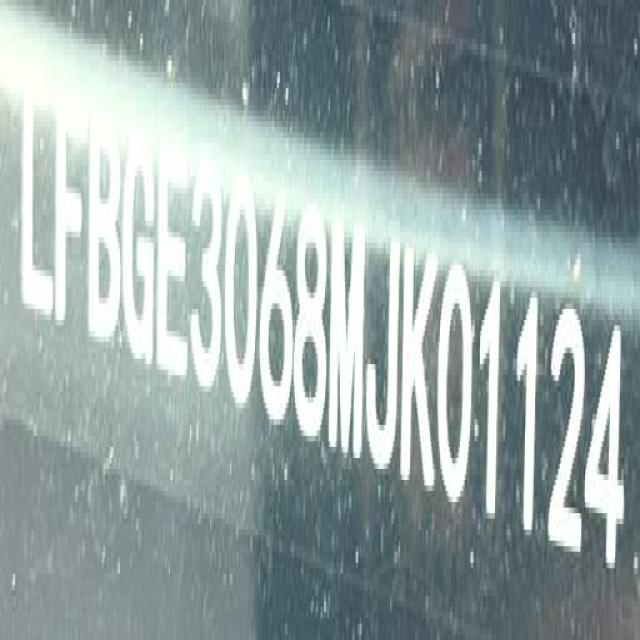0: (437, 249, 476, 509), (223, 165, 258, 419)
1: (514, 276, 543, 541), (478, 282, 504, 535)
2: (548, 300, 585, 554)
3: (190, 158, 224, 394)
4: (583, 319, 626, 568)
6: (258, 198, 294, 425)
8: (294, 212, 328, 453)
B: (89, 94, 122, 354)
E: (157, 135, 193, 384)
F: (55, 82, 90, 345)
G: (121, 110, 157, 372)
J: (366, 239, 399, 482)
K: (401, 235, 436, 482)
L: (22, 41, 54, 319)
M: (328, 223, 366, 470)
